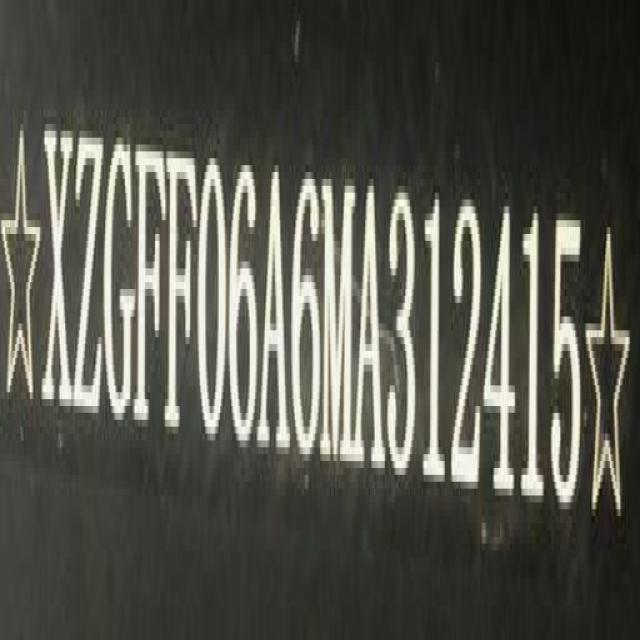0: (196, 142, 227, 448)
1: (418, 181, 446, 484), (520, 199, 542, 497)
2: (451, 183, 482, 497)
3: (385, 183, 419, 500)
4: (482, 191, 516, 507)
5: (548, 196, 584, 507)
6: (227, 145, 260, 449), (292, 156, 321, 467)
A: (259, 153, 290, 464), (355, 168, 384, 484)
F: (130, 130, 167, 444), (164, 143, 197, 443)
G: (104, 114, 132, 430)
M: (322, 166, 356, 466)
X: (42, 110, 75, 428)
Z: (72, 120, 103, 415)
